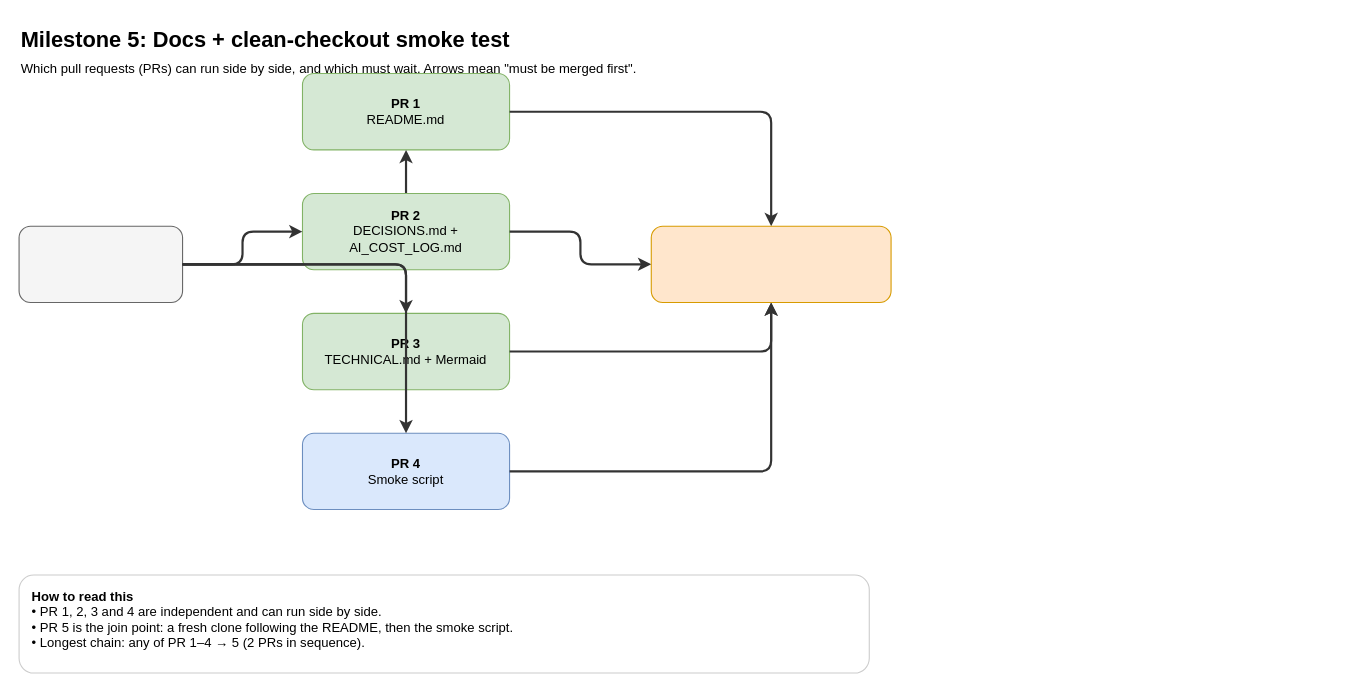
Some shapes in this 1346 by 692 pixel diagram are drawn without their labels. The centre of each missing label's shape, as x and y in pixels:
"M4 Detail page merged" belongs at pixel 100 263.
"PR 5 Fresh-clone smoke run + M5 exit check needs PR 1, 2, 3, 4" belongs at pixel 770 263.
